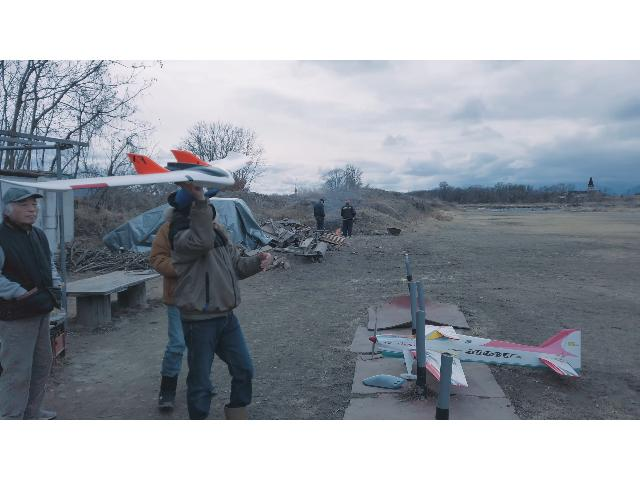Anti-Drone: (3, 141, 255, 195)
